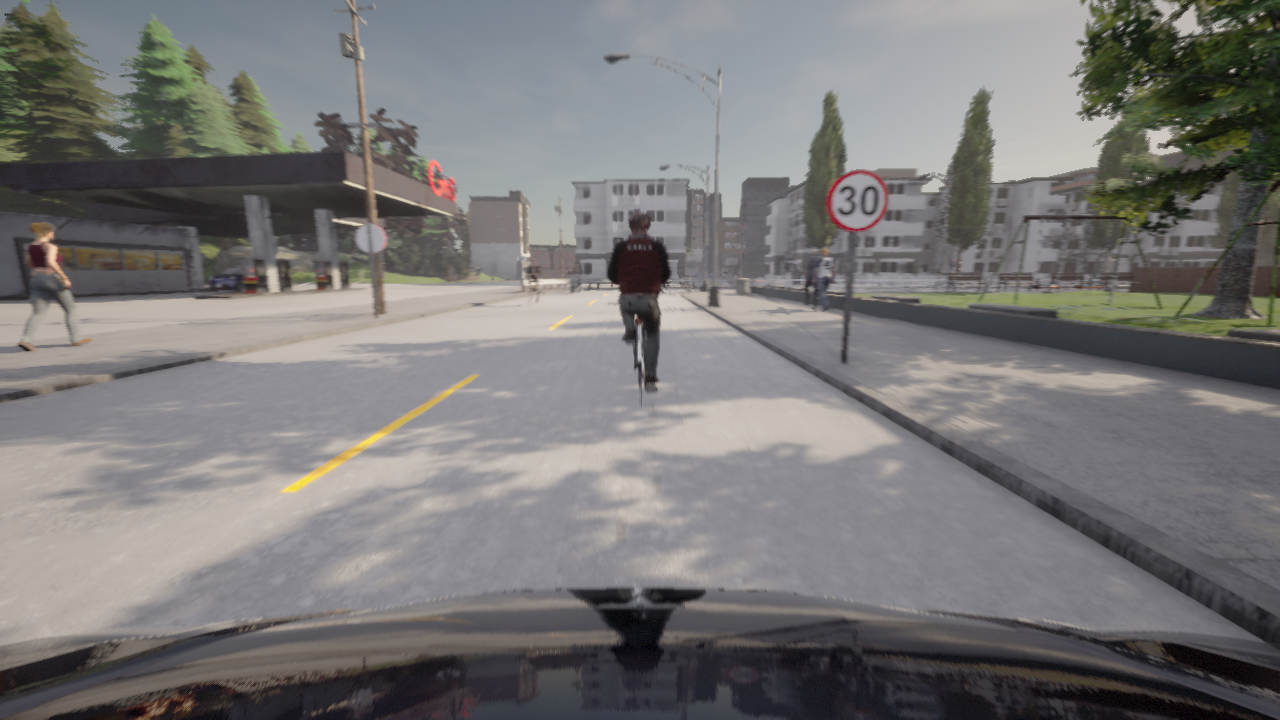cyclist: (0, 588, 1279, 719), (625, 316, 656, 406), (209, 267, 244, 292), (790, 273, 812, 287), (568, 272, 581, 293), (528, 277, 535, 306), (692, 270, 719, 277), (719, 272, 739, 277), (661, 284, 665, 292)
pedestrian: (16, 222, 93, 352), (812, 248, 834, 312), (803, 248, 819, 310)
